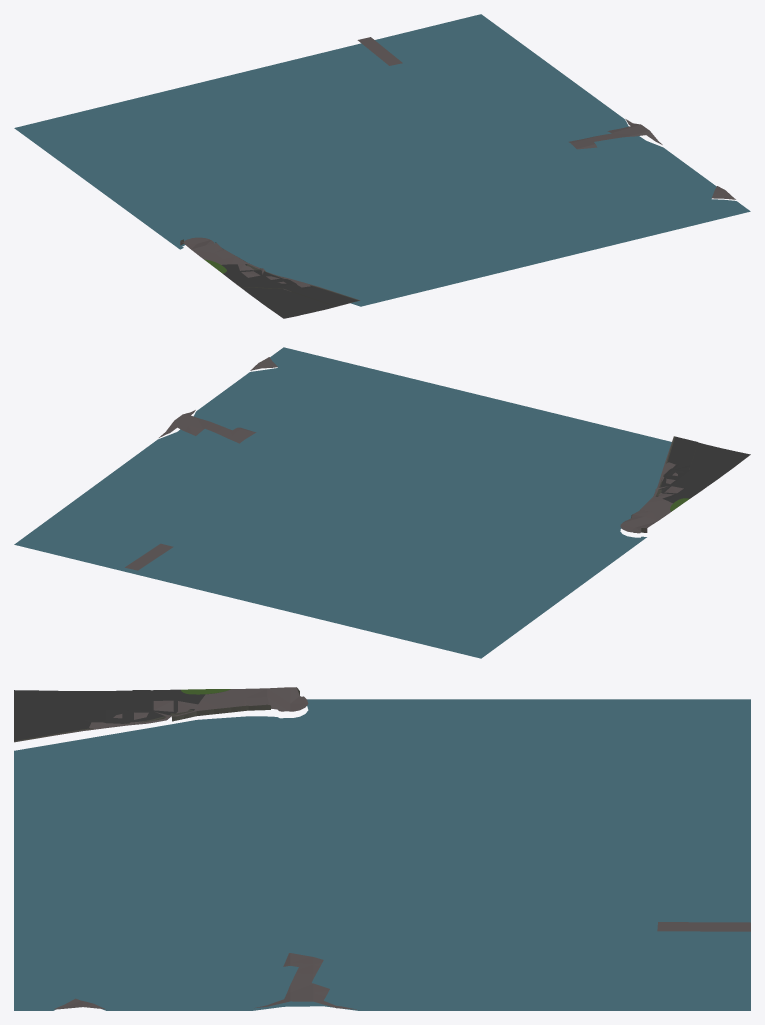
3 views of the same model, one above another, from view 1: azimuth 30°, elevation 25°; view 2: azimuth 150°, elevation 25°; view 3: azimuth 270°, elevation 25° (orthographic). The views are drawn at different scales.
Visible parts, largest first — view 1: c_p04_p08; view 2: c_p04_p08; view 3: c_p04_p08.
Part boxes in pixels (<box>): c_p04_p08: <box>14,14,750,318</box>; c_p04_p08: <box>14,347,750,658</box>; c_p04_p08: <box>14,687,750,1010</box>.
Size of the model in its own units: 128 by 2.35 by 128.
